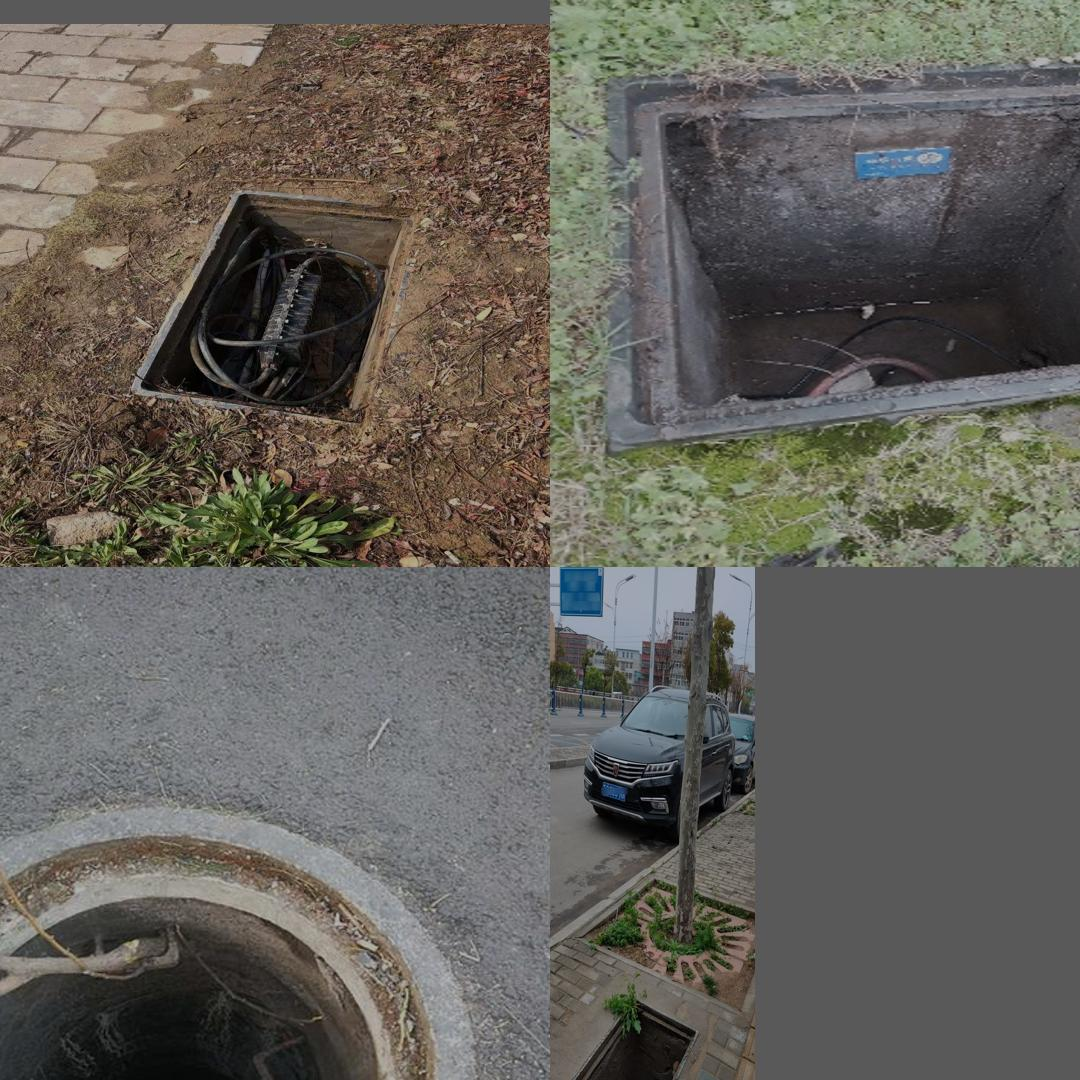lose: (602, 54, 1080, 451), (0, 805, 484, 1080), (126, 191, 427, 423), (549, 1001, 698, 1080)
